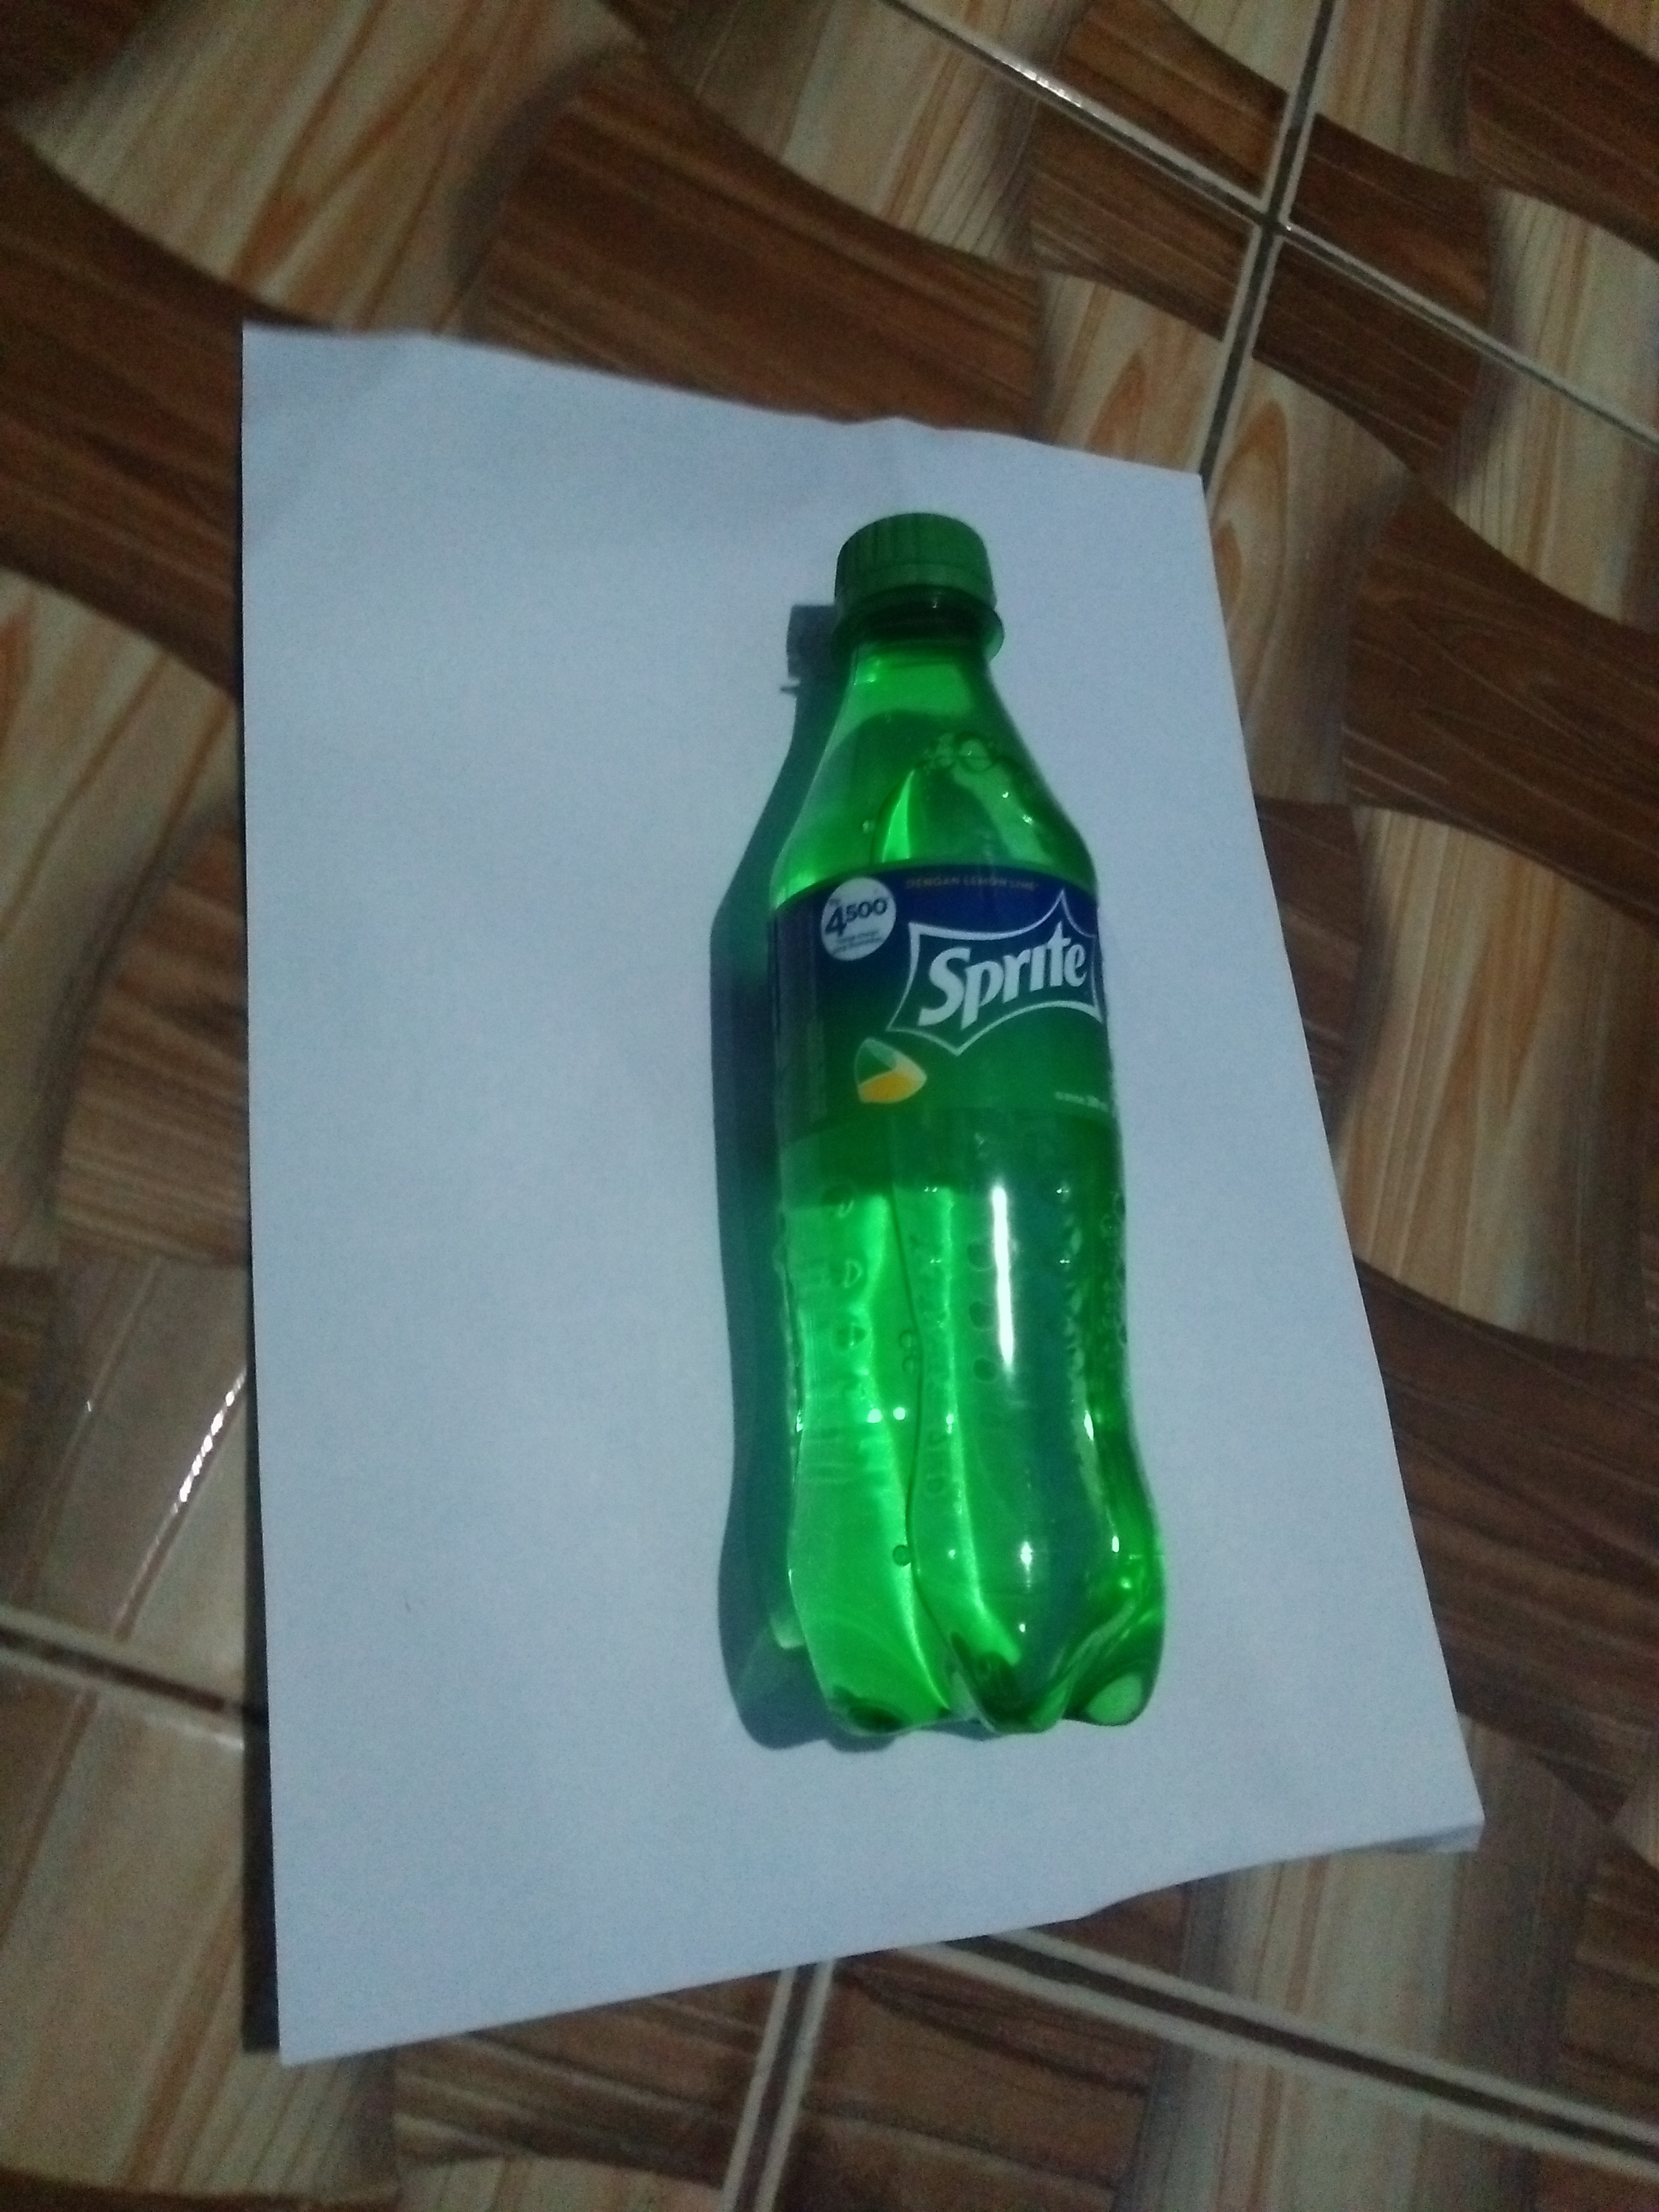Sprite: (727, 495, 1195, 1761)
